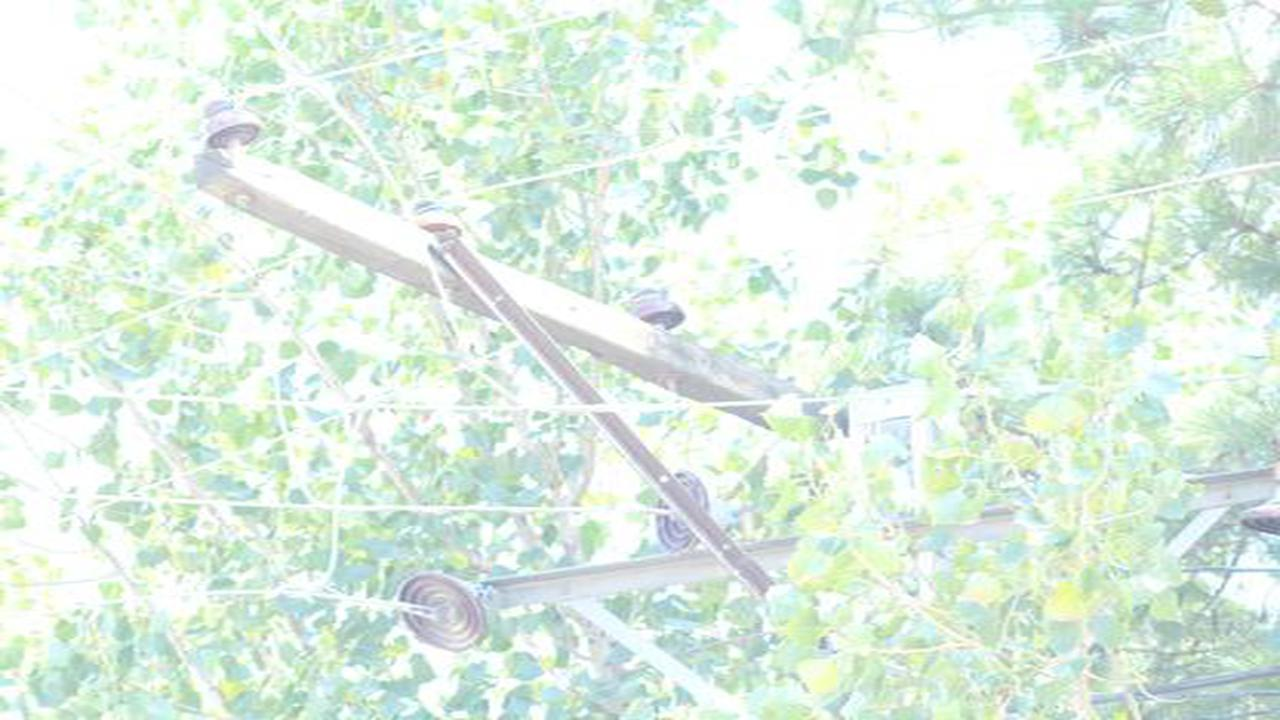insulator_disc: (395, 570, 490, 653), (654, 464, 707, 555)
insulator_pin: (198, 95, 266, 153), (620, 286, 690, 333), (412, 192, 470, 239)
